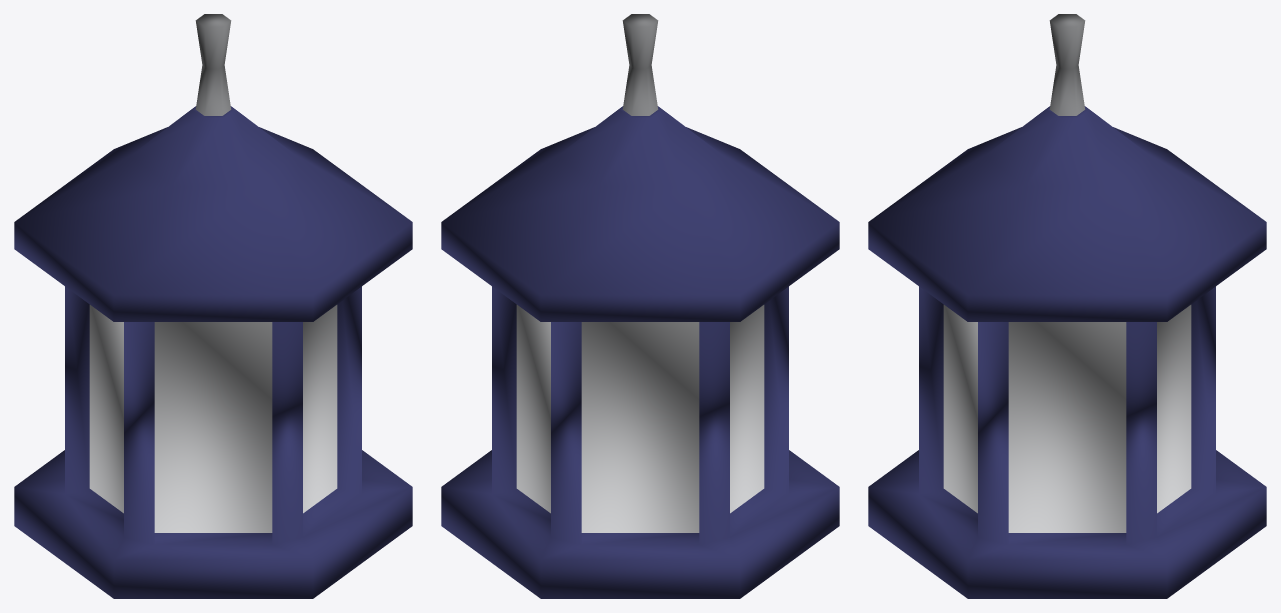
Rendered from Lantern.fbx.
3 renders of one model, left to right at view 1: azimuth 30°, elevation 25°; view 2: azimuth 150°, elevation 25°; view 3: azimuth 270°, elevation 25°, orthographic.
Parts seen in each view (by area): view 1: lantern; view 2: lantern; view 3: lantern.
Boxes of the visible parts, left/top/right/bottom form: lantern: left=14, top=14, right=412, bottom=598; lantern: left=441, top=14, right=839, bottom=598; lantern: left=868, top=14, right=1266, bottom=598.
Bounding box in the file's own units: 73.73 × 119 × 85.14.
